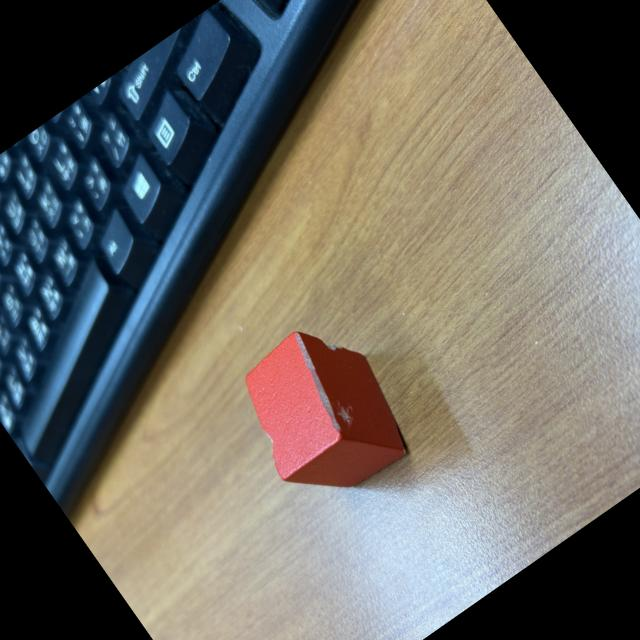broken: (217, 305, 426, 521)
